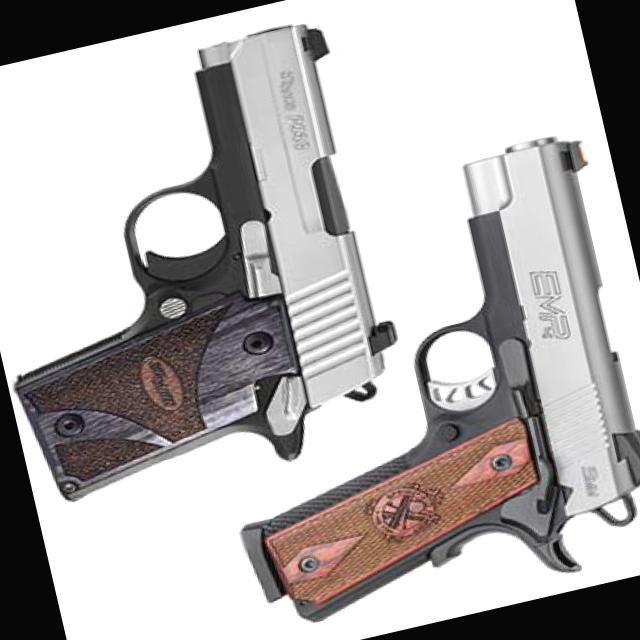handgun: (169, 116, 639, 636), (0, 8, 418, 524)
